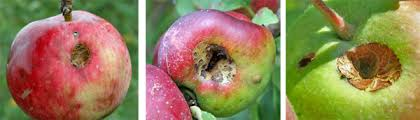damaged_apple: (7, 11, 135, 120), (291, 4, 410, 117), (156, 7, 276, 117)
